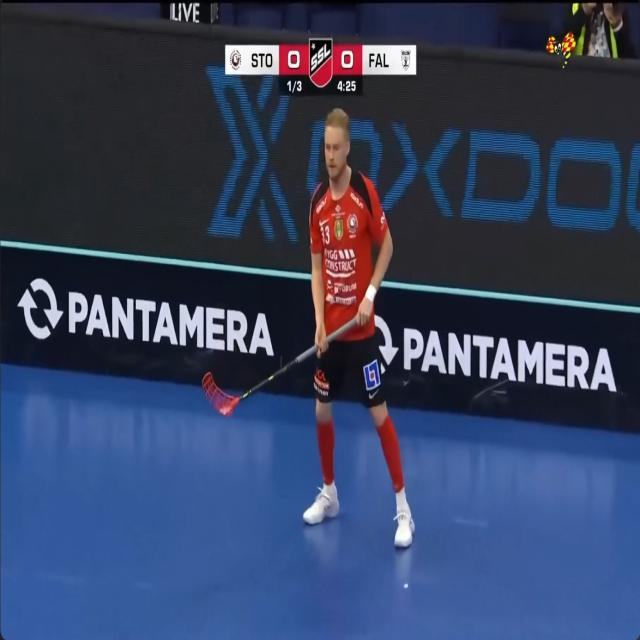player: (303, 108, 414, 547)
